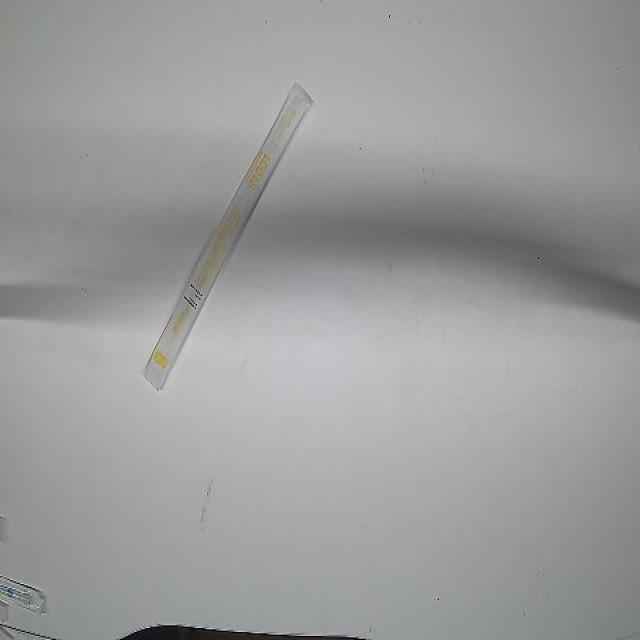Serelogical Pipet 1 mL - Sealed: (140, 79, 314, 389)
